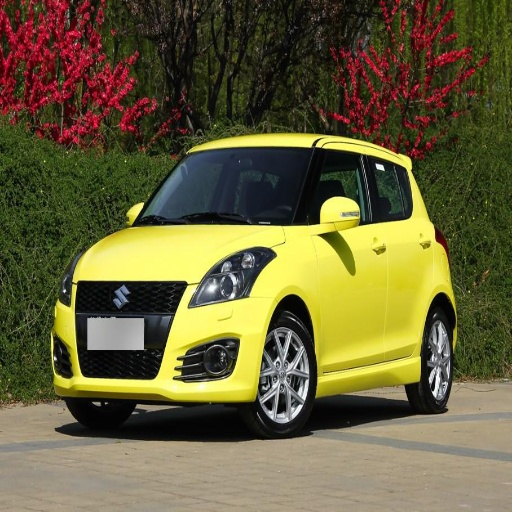front_bumper: (52, 280, 275, 403)
front_glass: (133, 151, 314, 225)
front_left_door: (310, 147, 387, 368)
